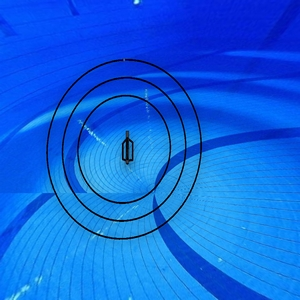circle: (45, 54, 210, 243)
submarine: (118, 128, 142, 165)
